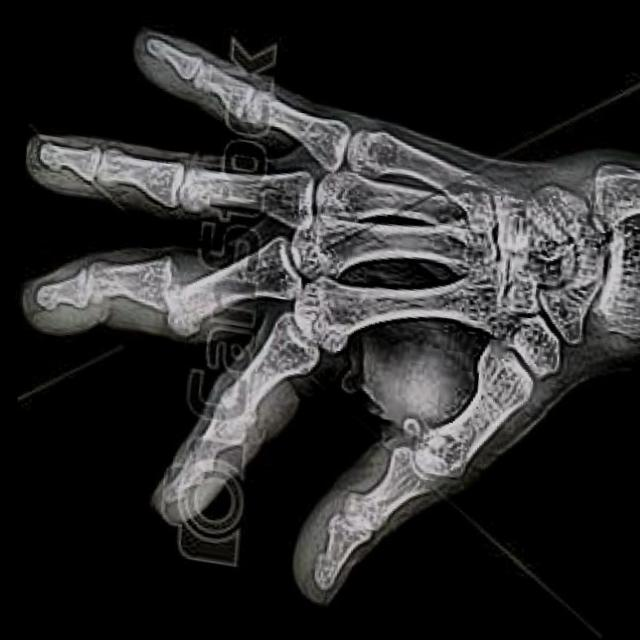fracture: (147, 262, 190, 328)
